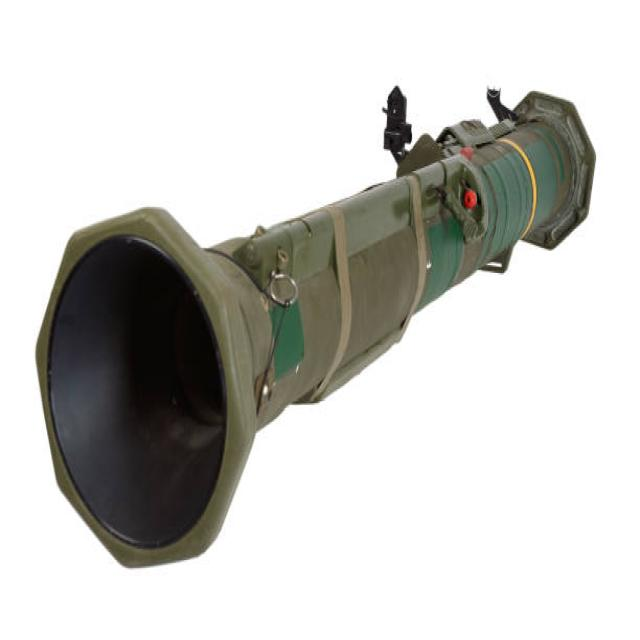bazooka: (25, 65, 603, 588)
